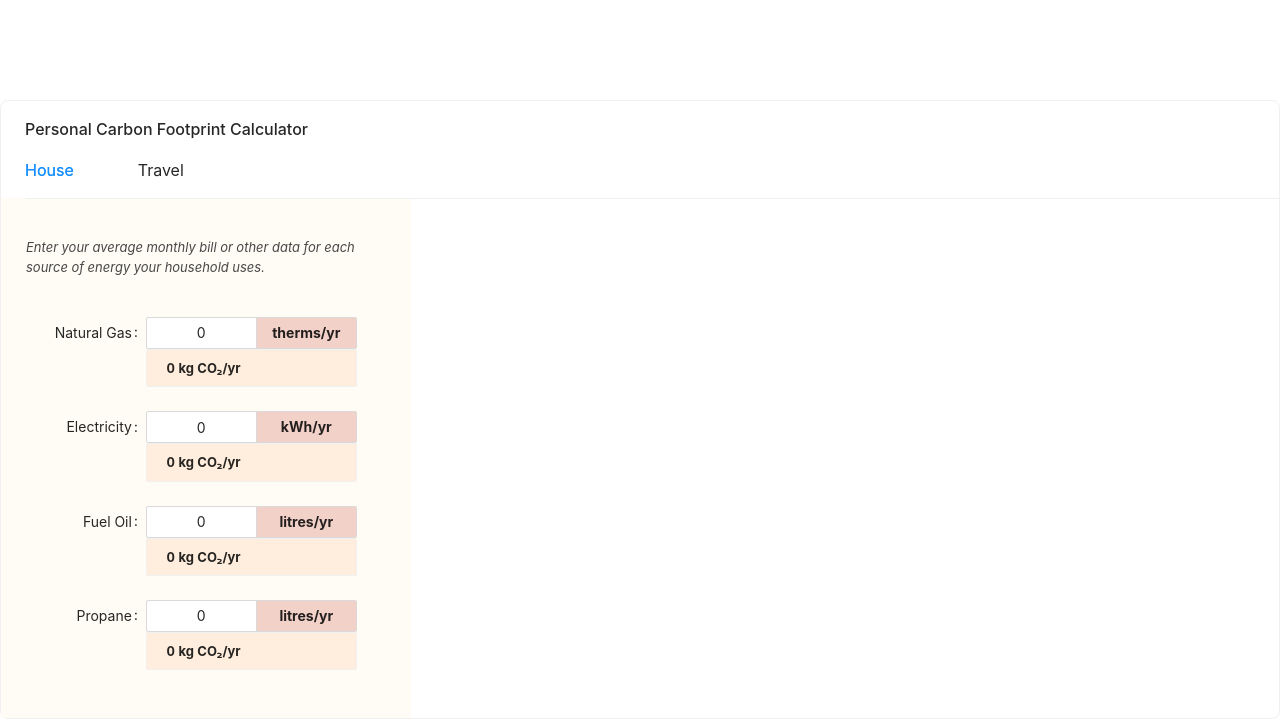
Scenario: calculator › enables switching between input categories via tab selection
Check: the text "Personal Carbon Footprint Calculator" is shown, box [25, 119, 308, 139]
Check: the tab "House" is shown, box [25, 158, 74, 183]
Click the tab "Travel".
click(161, 171)  # box [138, 158, 184, 183]
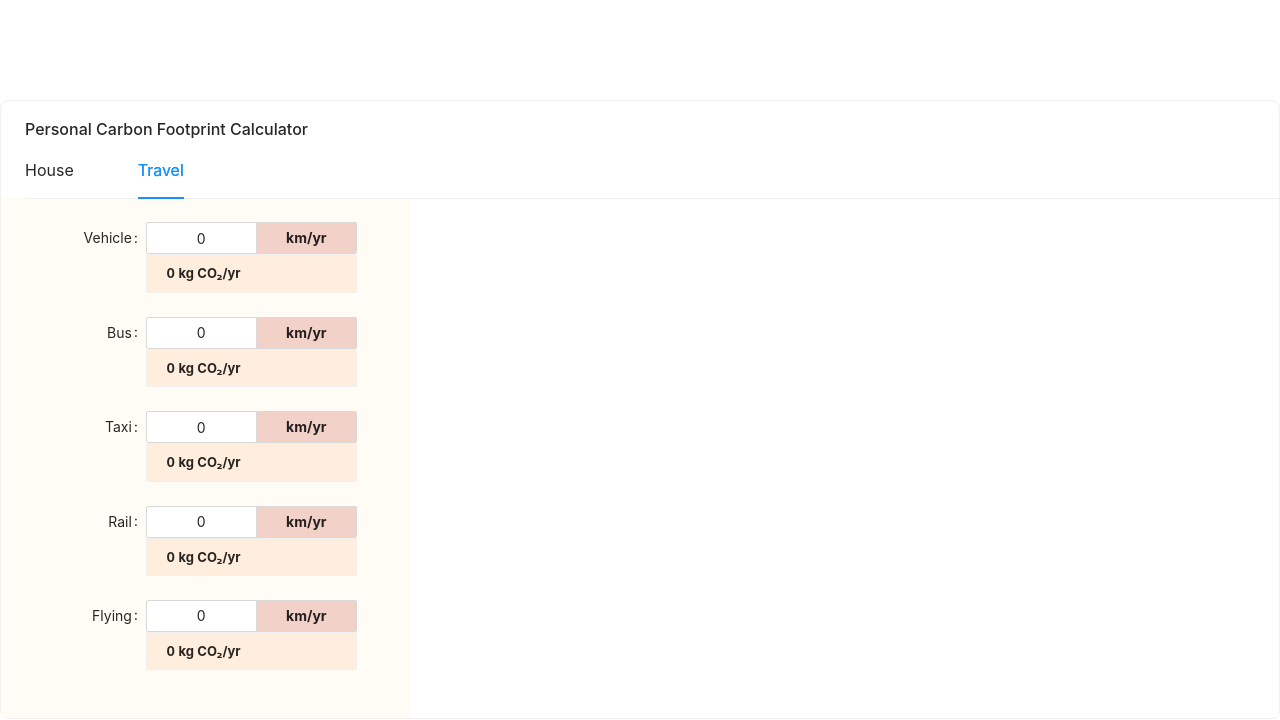
Check: the text "Vehicle" is shown, box [84, 222, 146, 254]
Check: the text "Bus" is shown, box [107, 317, 146, 349]
Check: the text "Taxi" is shown, box [105, 411, 146, 443]
